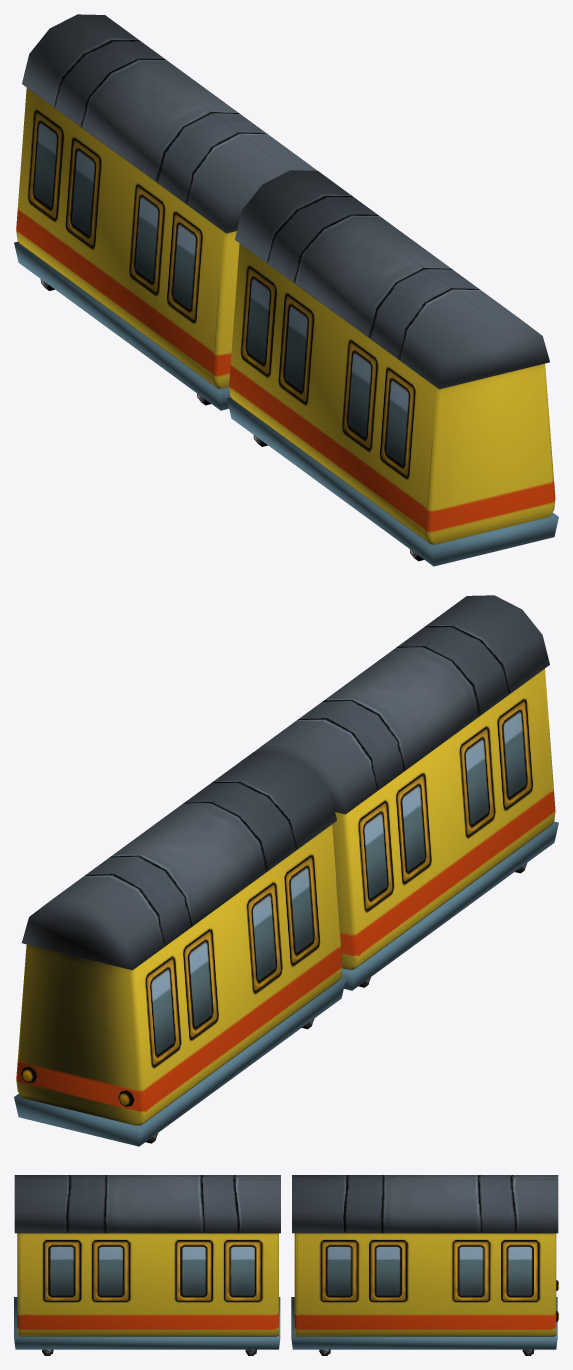
The model's file is train_02.fbx.
The picture shows the model from 3 angles, top to bottom: view 1: azimuth 30°, elevation 25°; view 2: azimuth 150°, elevation 25°; view 3: azimuth 270°, elevation 25°; orthographic projection. The views are drawn at different scales.
Visible parts, largest first — view 1: train_02; view 2: train_02; view 3: train_02.
Boxes of the visible parts, x1,y1,x2,y2 form: train_02: (14, 14, 558, 566); train_02: (14, 595, 558, 1146); train_02: (14, 1175, 558, 1355).
Size of the model in its own units: 421 by 763 by 2358.
